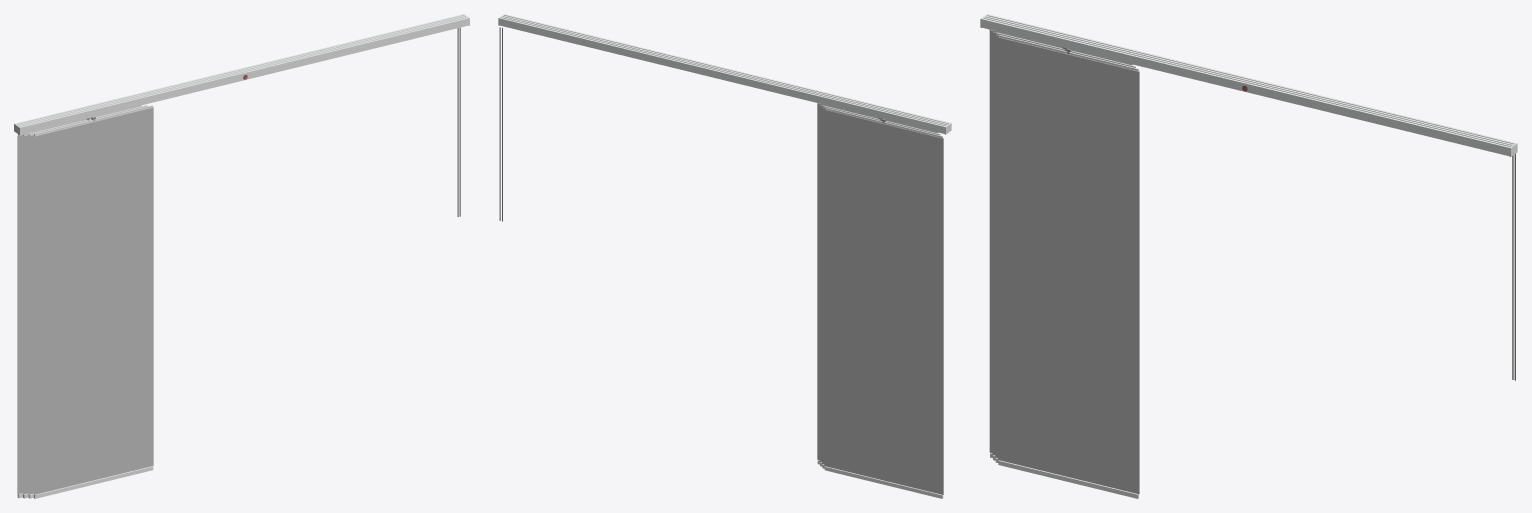
File: after-panel-white-collected.glb
The picture shows the model from 3 angles, left to right: view 1: azimuth 30°, elevation 25°; view 2: azimuth 150°, elevation 25°; view 3: azimuth 330°, elevation 25°; orthographic projection. The views are drawn at different scales.
Parts seen in each view (by area): view 1: PANEL_TELO_4, PANEL_RAIL_PROFILE_WAY_4, PANEL_TELO_2, PANEL_TELO_1, PANEL_TELO_3, PANEL_RAIL_PROFILE_WAY_1, PANEL_RAIL_PROFILE_WAY_2, PANEL_RAIL_PROFILE_WAY_3, PANEL_BOTTOM_WEIGHT_4; view 2: PANEL_TELO_1, PANEL_RAIL_PROFILE_WAY_1, PANEL_TELO_3, PANEL_TELO_4, PANEL_TELO_2, PANEL_RAIL_PROFILE_WAY_4, PANEL_RAIL_PROFILE_WAY_3, PANEL_RAIL_PROFILE_WAY_2, PANEL_BOTTOM_WEIGHT_1; view 3: PANEL_TELO_4, PANEL_RAIL_PROFILE_WAY_4, PANEL_TELO_1, PANEL_TELO_2, PANEL_RAIL_PROFILE_WAY_1, PANEL_RAIL_PROFILE_WAY_2, PANEL_RAIL_PROFILE_WAY_3, PANEL_TELO_3, PANEL_BOTTOM_WEIGHT_4.
Boxes of the visible parts, box(x1,y1,x2,y2) form: PANEL_TELO_4: box(33, 107, 153, 494); PANEL_RAIL_PROFILE_WAY_4: box(20, 17, 468, 134); PANEL_TELO_2: box(22, 135, 28, 494); PANEL_TELO_1: box(17, 135, 23, 494); PANEL_TELO_3: box(28, 135, 34, 494); PANEL_RAIL_PROFILE_WAY_1: box(15, 14, 463, 124); PANEL_RAIL_PROFILE_WAY_2: box(17, 15, 465, 125); PANEL_RAIL_PROFILE_WAY_3: box(19, 16, 466, 126); PANEL_BOTTOM_WEIGHT_4: box(34, 466, 153, 498); PANEL_TELO_1: box(824, 109, 943, 494); PANEL_RAIL_PROFILE_WAY_1: box(499, 17, 945, 133); PANEL_TELO_3: box(819, 105, 822, 462); PANEL_TELO_4: box(817, 103, 820, 460); PANEL_TELO_2: box(822, 107, 824, 464); PANEL_RAIL_PROFILE_WAY_4: box(504, 14, 949, 123); PANEL_RAIL_PROFILE_WAY_3: box(502, 15, 948, 124); PANEL_RAIL_PROFILE_WAY_2: box(501, 16, 946, 125); PANEL_BOTTOM_WEIGHT_1: box(824, 466, 943, 498); PANEL_TELO_4: box(998, 37, 1139, 494); PANEL_RAIL_PROFILE_WAY_4: box(982, 18, 1510, 155); PANEL_TELO_1: box(989, 29, 993, 452); PANEL_TELO_2: box(992, 32, 995, 455); PANEL_RAIL_PROFILE_WAY_1: box(987, 14, 1515, 144); PANEL_RAIL_PROFILE_WAY_2: box(985, 16, 1513, 145); PANEL_RAIL_PROFILE_WAY_3: box(983, 17, 1511, 146); PANEL_TELO_3: box(995, 34, 998, 457); PANEL_BOTTOM_WEIGHT_4: box(998, 460, 1138, 498).
Bounding box in the file's own units: 3.02 × 2.4 × 0.088.
5 materials, 2 textured.
